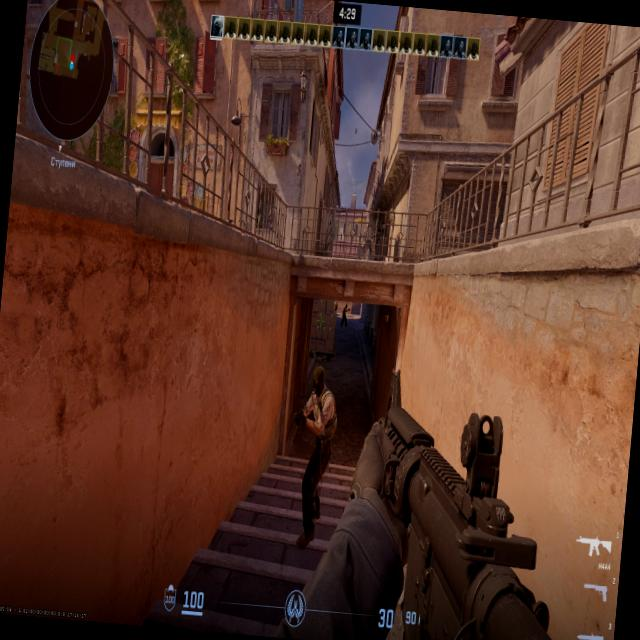T: (300, 374, 336, 519), (342, 306, 346, 322)
T_heat: (317, 377, 326, 397), (344, 305, 346, 309)
